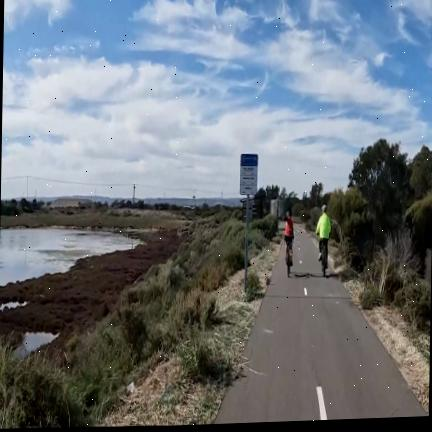Bike_Lane: (214, 230, 428, 424)
Bike_Sign: (239, 153, 258, 195)
